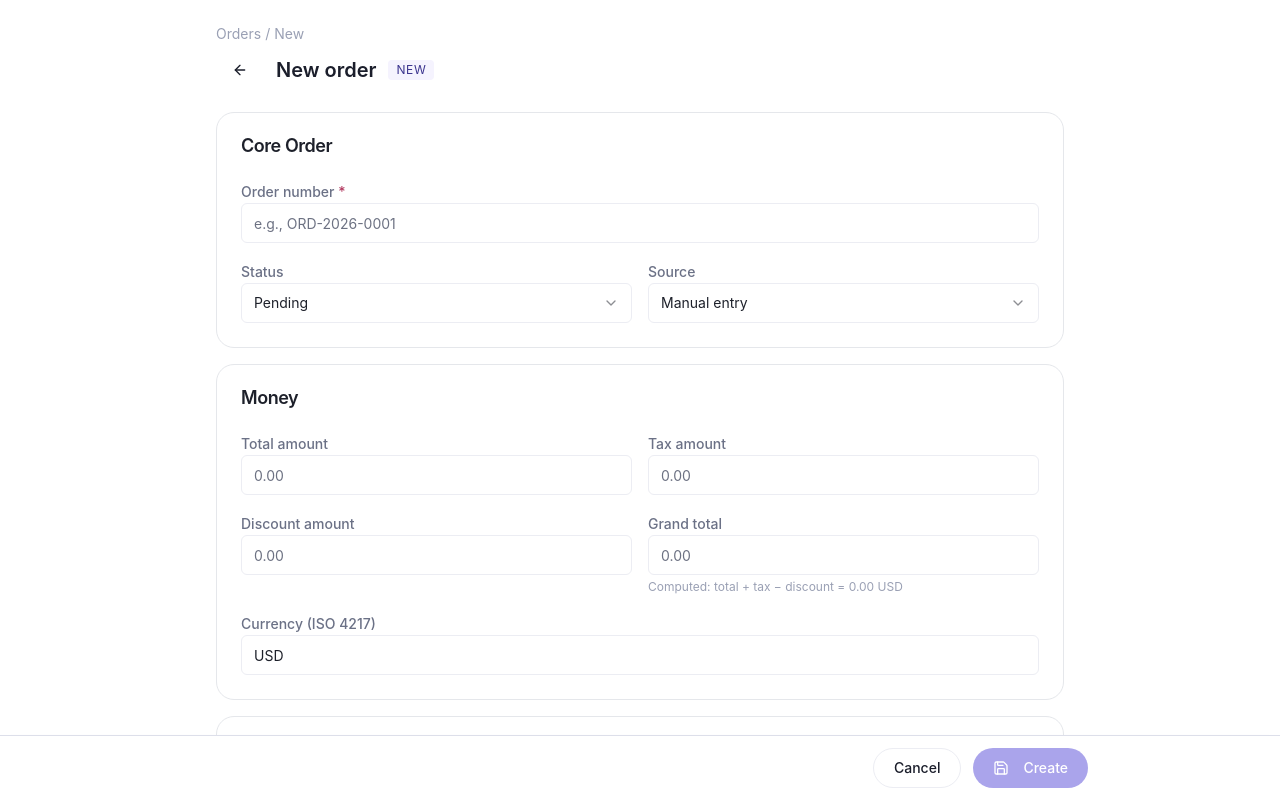
Test: KAN-945 — OrderForm › (5) Save button enables on first field change
Type "ORD-1" into the field labelled "Order number *" at (640,223), box [241, 203, 1039, 243]
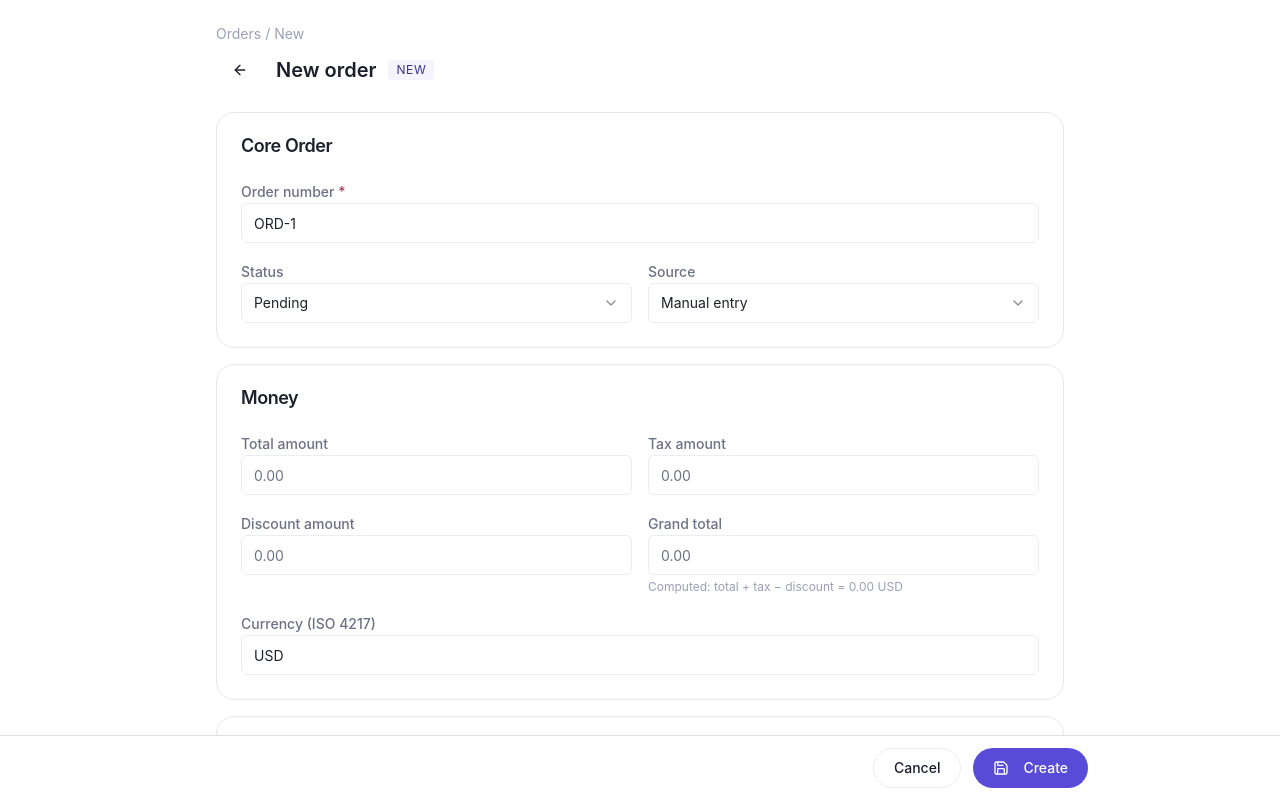
Check: the button "Create" is enabled, box [973, 748, 1088, 788]
